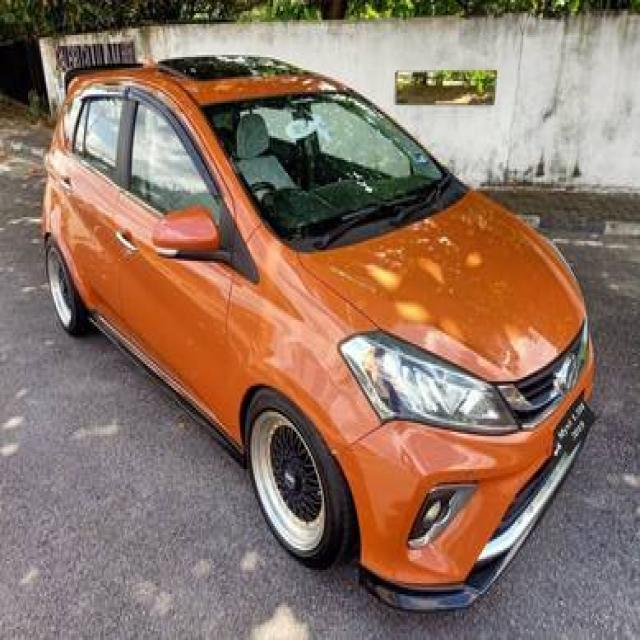PeroduaMyvi: (38, 50, 598, 614)
